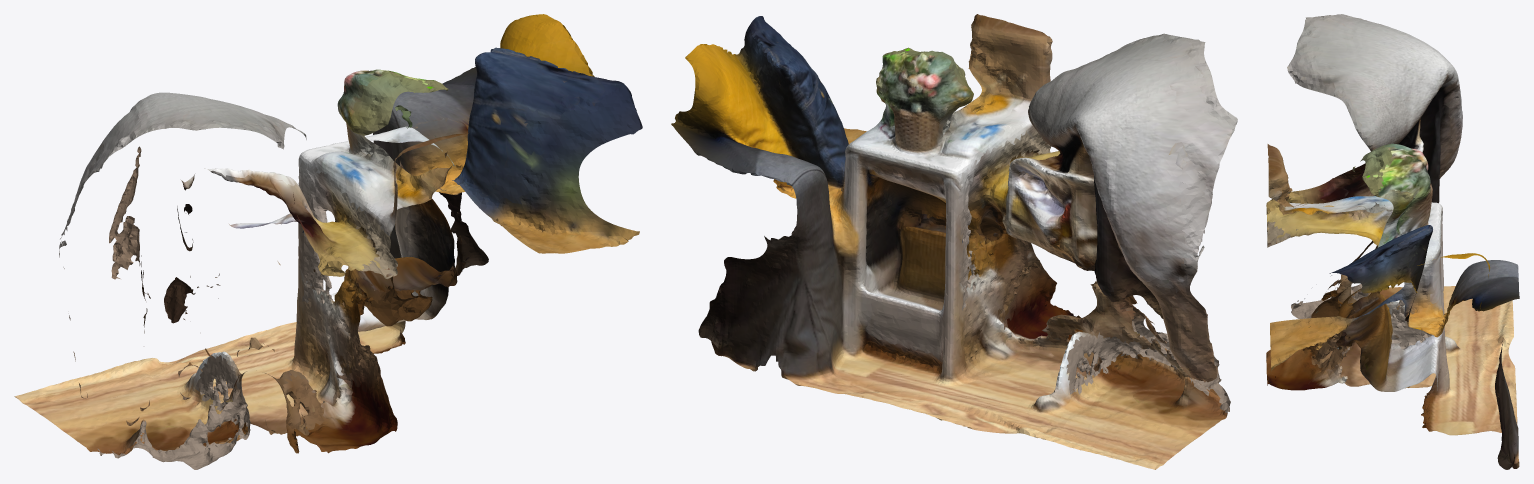
3 views of the same model, side by side, from view 1: azimuth 30°, elevation 25°; view 2: azimuth 150°, elevation 25°; view 3: azimuth 270°, elevation 25° (orthographic). The views are drawn at different scales.
Size of the model in its own units: 1.56 by 1.01 by 0.7579.
1 material, 1 textured.
